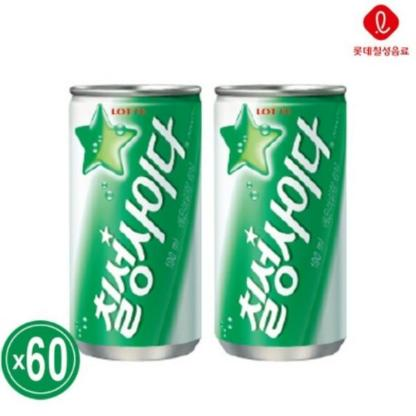Can: (68, 81, 204, 361), (216, 84, 350, 367)
